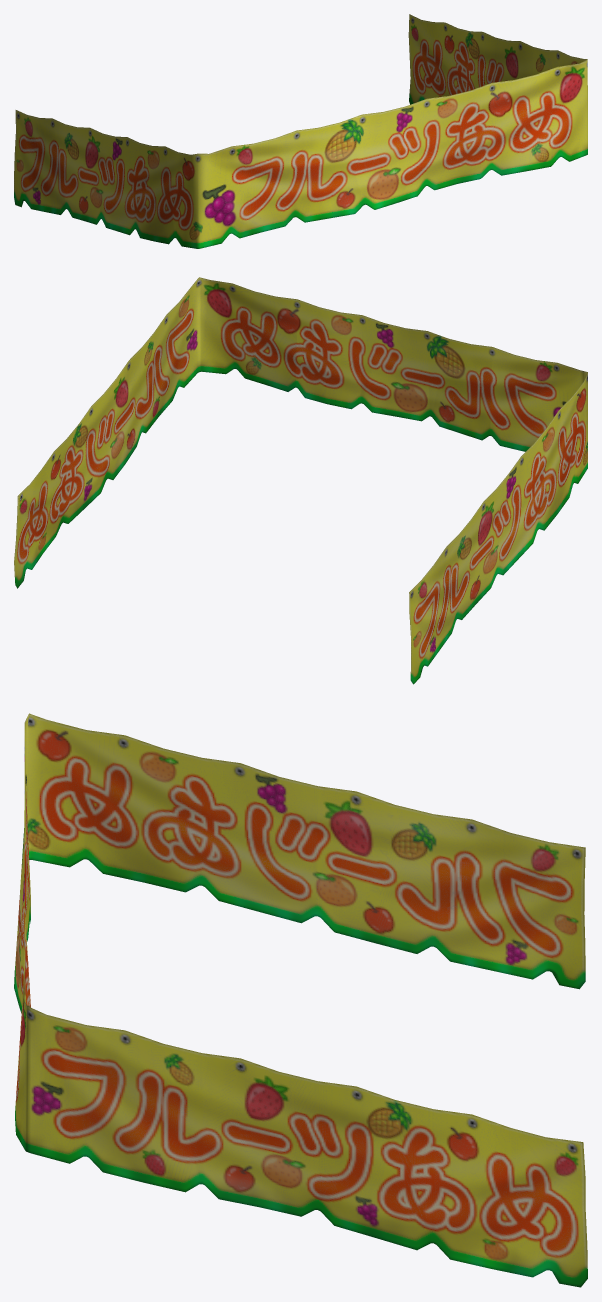
Rendered from jsf_ShopCurtain_AppleCandy_02.fbx.
3 renders of one model, top to bottom at view 1: azimuth 30°, elevation 25°; view 2: azimuth 150°, elevation 25°; view 3: azimuth 270°, elevation 25°, orthographic. The views are drawn at different scales.
Parts seen in each view (by area): view 1: jsf_ShopCurtain_AppleCandy_02; view 2: jsf_ShopCurtain_AppleCandy_02; view 3: jsf_ShopCurtain_AppleCandy_02.
Part boxes in pixels (x1=…): jsf_ShopCurtain_AppleCandy_02: x1=14, y1=14, x2=587, y2=248; jsf_ShopCurtain_AppleCandy_02: x1=14, y1=277, x2=587, y2=684; jsf_ShopCurtain_AppleCandy_02: x1=14, y1=713, x2=587, y2=1287.
Bounding box in the file's own units: 269 × 116 × 216.
